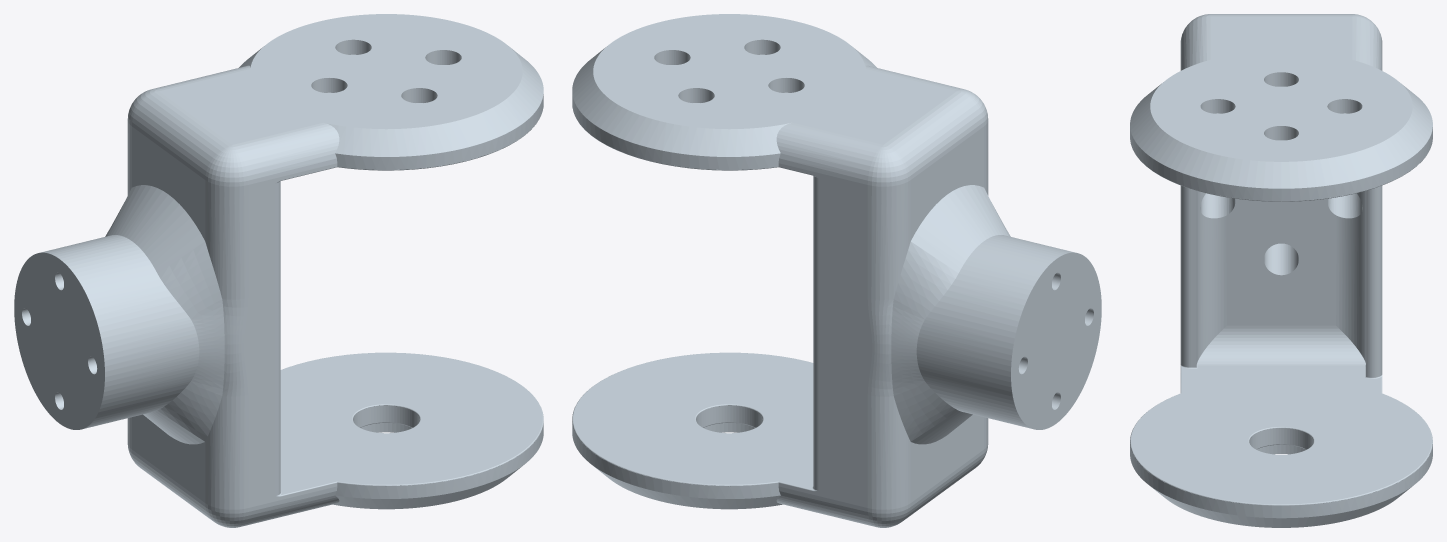
The model's file is FLO-ARM-01 UPPER ARM MOUNT - FLO-ARM-RIGHT-01 UPPER ARM MOUNT.dae.
3 renders of one model, left to right at view 1: azimuth 30°, elevation 25°; view 2: azimuth 150°, elevation 25°; view 3: azimuth 270°, elevation 25°, orthographic. The views are drawn at different scales.
Visible parts, largest first — view 1: 5ca6b62a11c57816261aa53e; view 2: 5ca6b62a11c57816261aa53e; view 3: 5ca6b62a11c57816261aa53e.
Part boxes in pixels (x1,y1,x2,y2): 5ca6b62a11c57816261aa53e: (14, 14, 543, 527); 5ca6b62a11c57816261aa53e: (572, 14, 1101, 527); 5ca6b62a11c57816261aa53e: (1130, 14, 1432, 527).
Size of the model in its own units: 0.0648 by 0.0381 by 0.0508.
